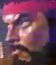ryu: (3, 0, 51, 64)
